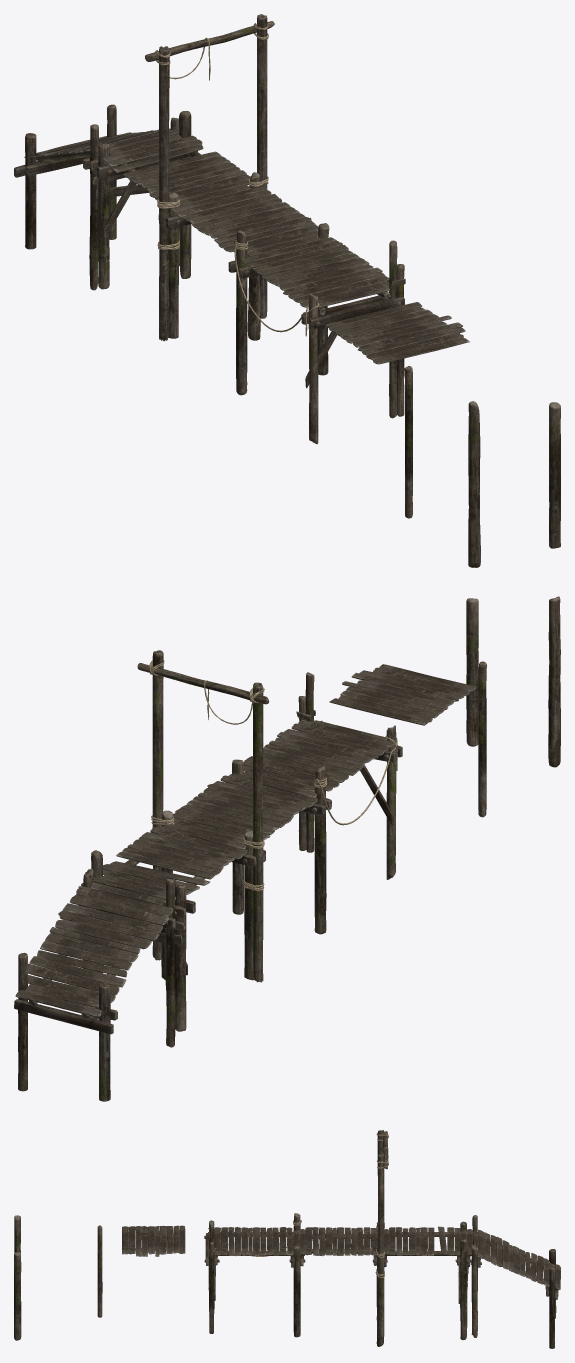
The model's file is modular_wooden_pier.glb.
The picture shows the model from 3 angles, top to bottom: view 1: azimuth 30°, elevation 25°; view 2: azimuth 150°, elevation 25°; view 3: azimuth 270°, elevation 25°; orthographic projection. The views are drawn at different scales.
Visible parts, largest first — view 1: modular_wooden_pier_planks, modular_wooden_pier_section_01, modular_wooden_pier_poles; view 2: modular_wooden_pier_planks, modular_wooden_pier_section_01, modular_wooden_pier_poles; view 3: modular_wooden_pier_planks, modular_wooden_pier_section_01, modular_wooden_pier_poles.
Boxes of the visible parts, bbox=[...] form: modular_wooden_pier_planks: bbox=[14, 23, 469, 388]; modular_wooden_pier_section_01: bbox=[25, 14, 404, 444]; modular_wooden_pier_poles: bbox=[404, 366, 560, 567]; modular_wooden_pier_planks: bbox=[14, 660, 476, 1034]; modular_wooden_pier_section_01: bbox=[18, 650, 396, 1101]; modular_wooden_pier_poles: bbox=[466, 596, 560, 817]; modular_wooden_pier_planks: bbox=[122, 1132, 560, 1303]; modular_wooden_pier_section_01: bbox=[204, 1130, 558, 1348]; modular_wooden_pier_poles: bbox=[14, 1215, 102, 1340].
Bounding box in the file's own units: 3.1 × 7.52 × 19.03.
2 materials, 2 textured.
